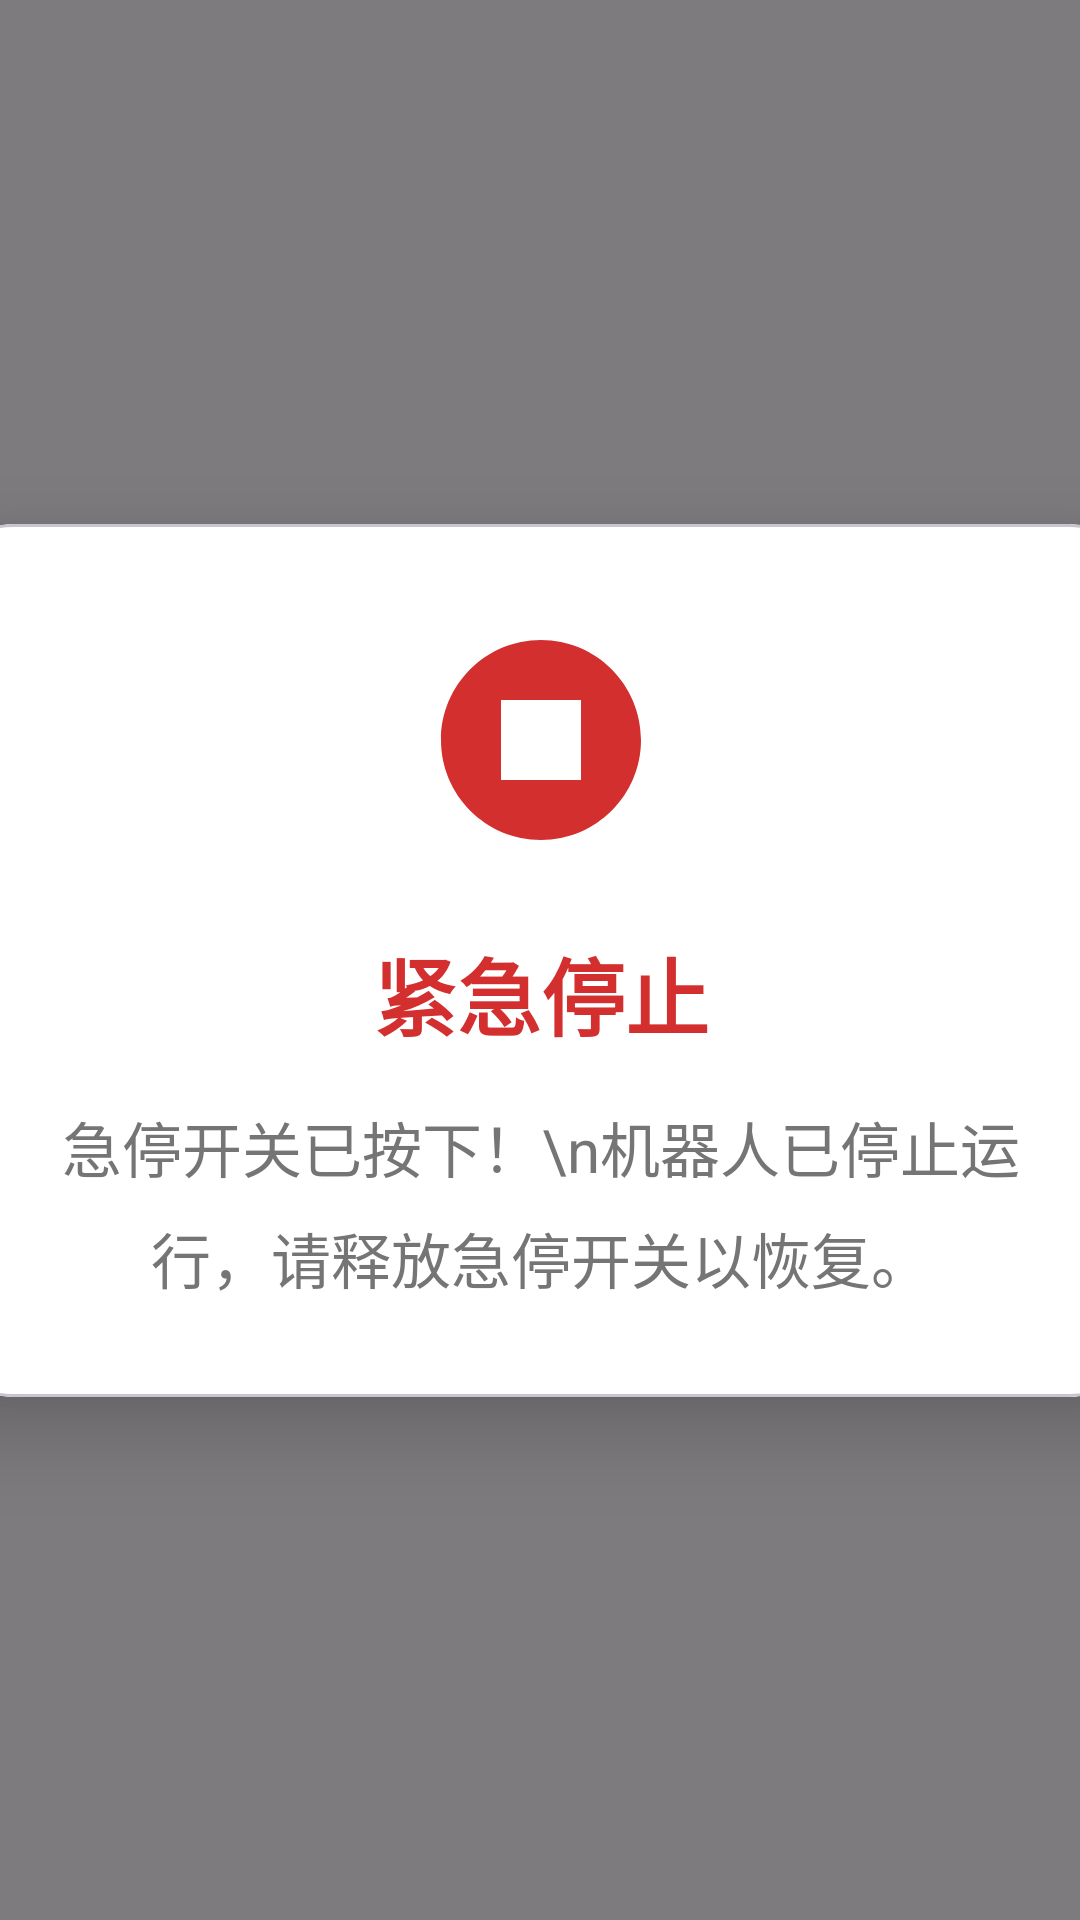

Locate icon controls on the screen. Image size 1080 × 1920, boxes as (x1, y1, x2, y2).
stop circle: (441, 640, 641, 840)
